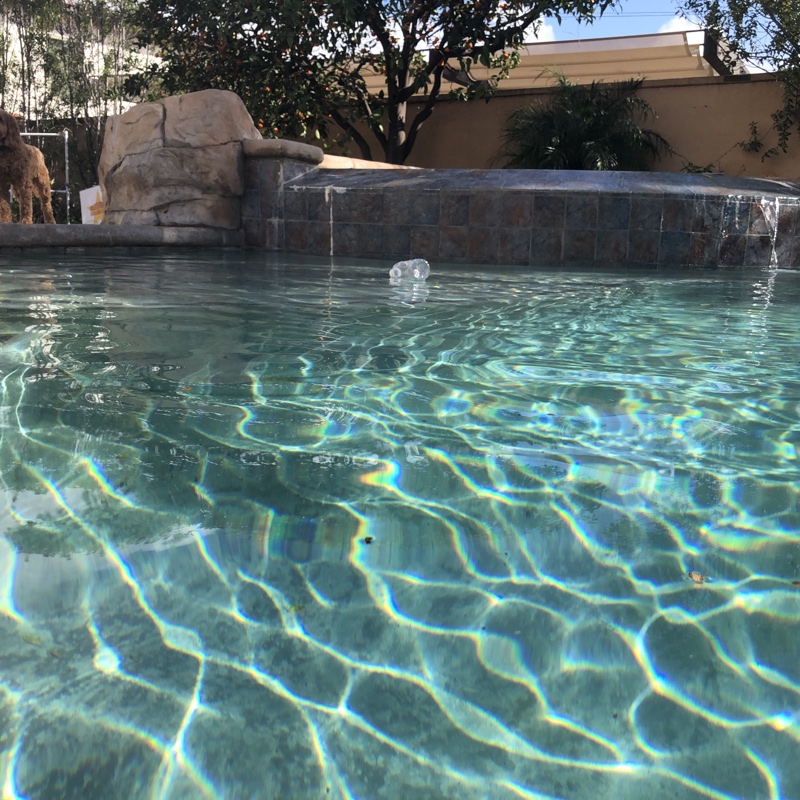Plastic Bottle: (386, 254, 431, 284)
